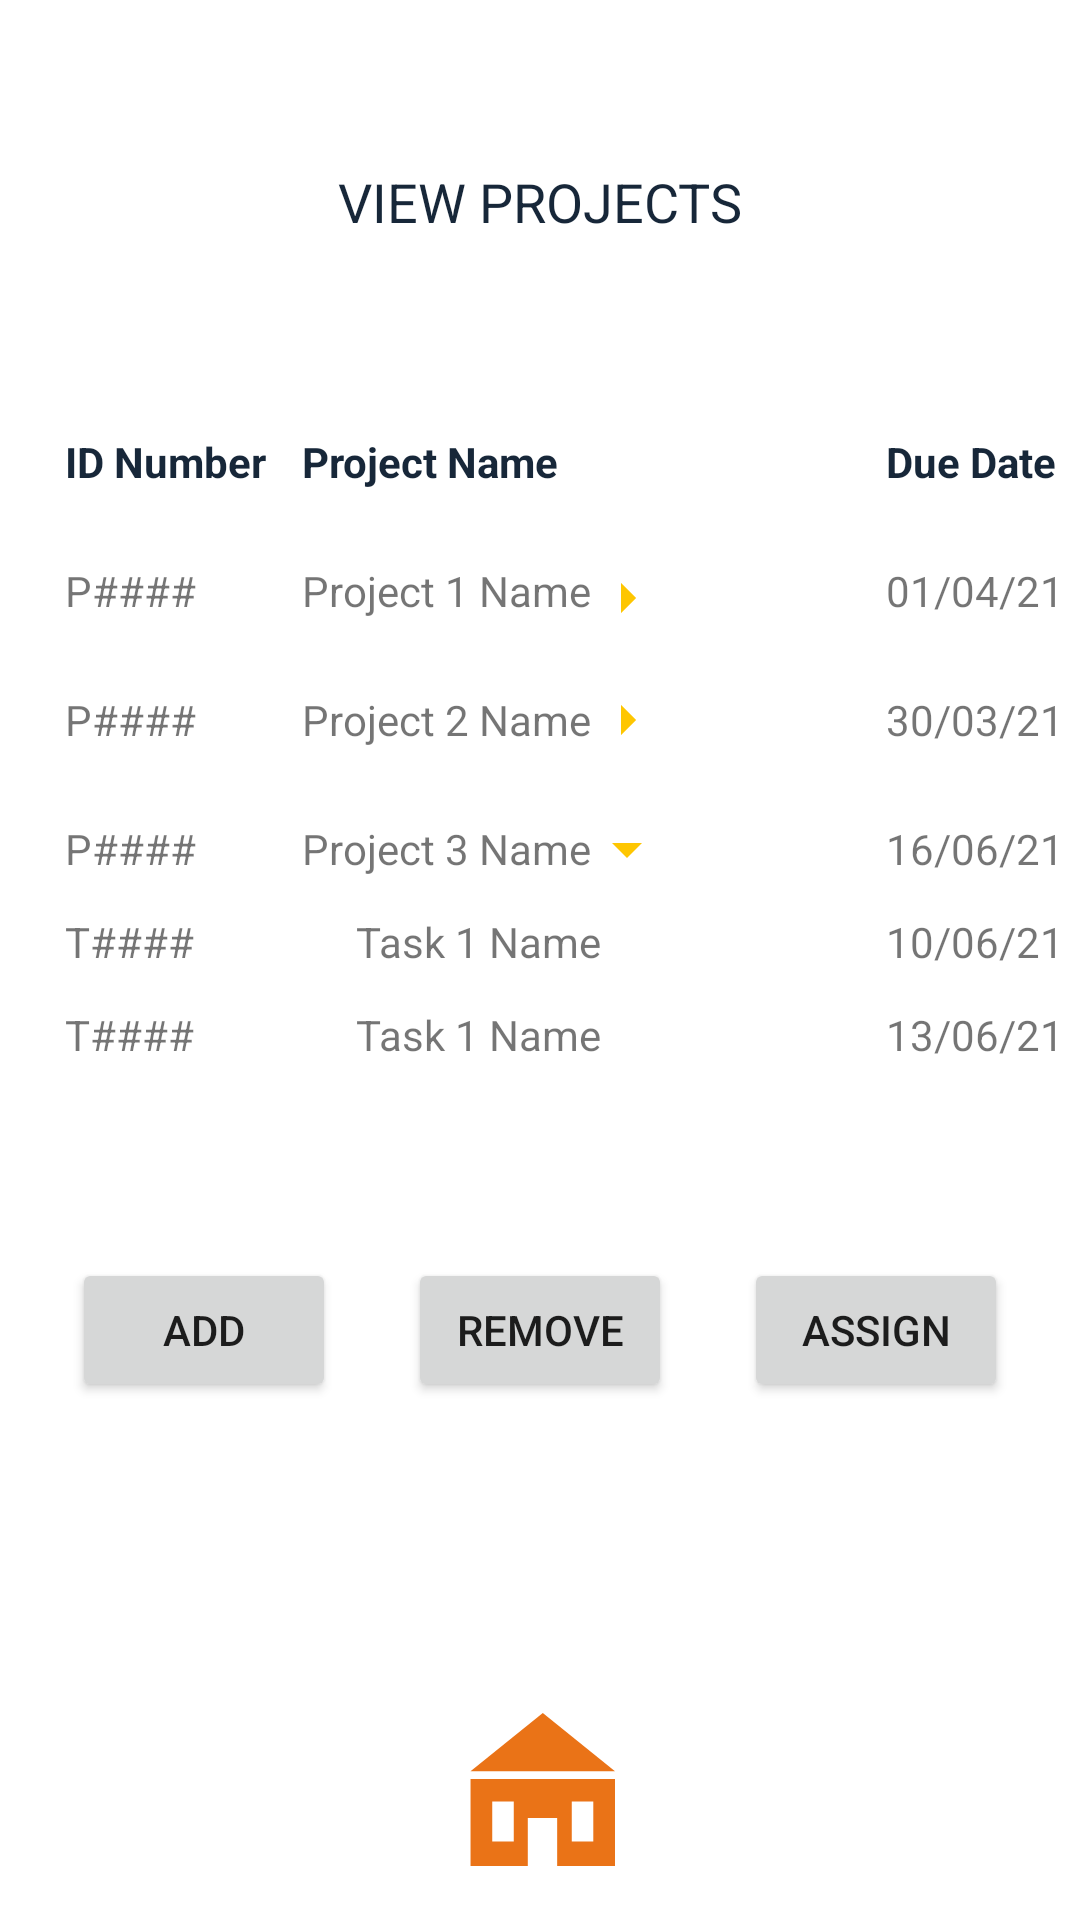

Icons on this 1080 x 1920 Android screen, each with its box as [x1,y1,x2,y2]:
drop down: [612,843,642,858]
home: [470,1713,615,1866]
right arrow: [621,583,636,613], [621,705,636,735]
